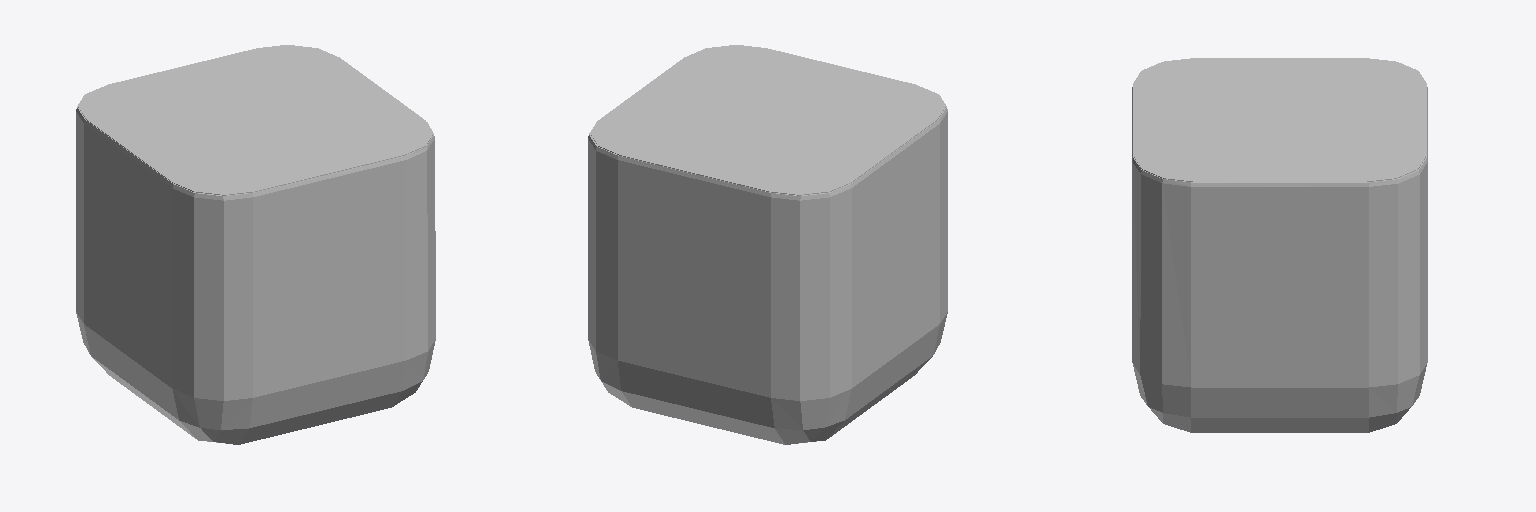
The model's file is jarre_contenu.obj.
3 views of the same model, side by side, from view 1: azimuth 30°, elevation 25°; view 2: azimuth 150°, elevation 25°; view 3: azimuth 270°, elevation 25° (orthographic).
Visible parts, largest first — view 1: Cube; view 2: Cube; view 3: Cube.
Part boxes in pixels (bbox=[...]): Cube: bbox=[76, 45, 435, 444]; Cube: bbox=[588, 45, 947, 444]; Cube: bbox=[1132, 58, 1427, 432].
Size of the model in its own units: 1.41 by 1.43 by 1.41.